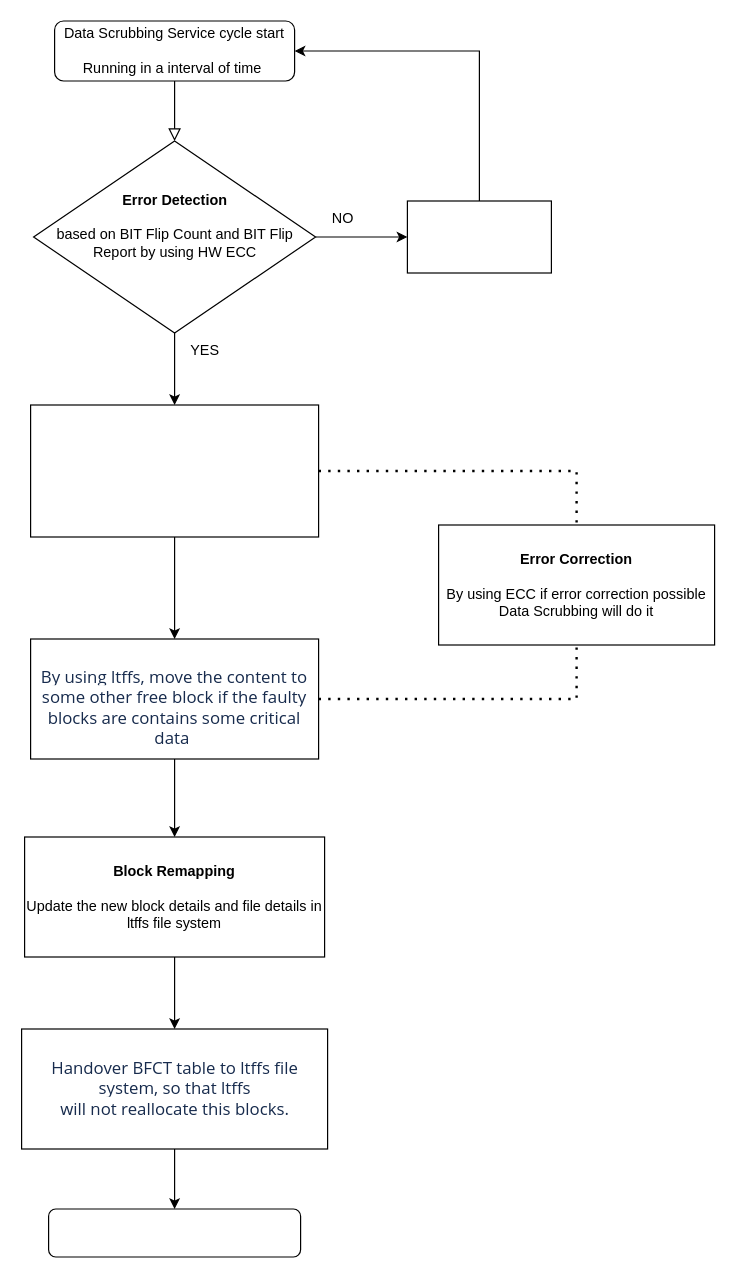
Image size: 736x1278. Some labels were removed from this diagram. The shapes that lost their labels are listed below. From the top down, each one's centre as x and y in pixels, then its label:
At (x=478, y=236): "Reset BFCT table".
At (x=174, y=470): "Generate Bit Flip Count Table(BFCT) and add the faulty blocks".
At (x=174, y=1232): "Data Scrubbing Service cycle end".
